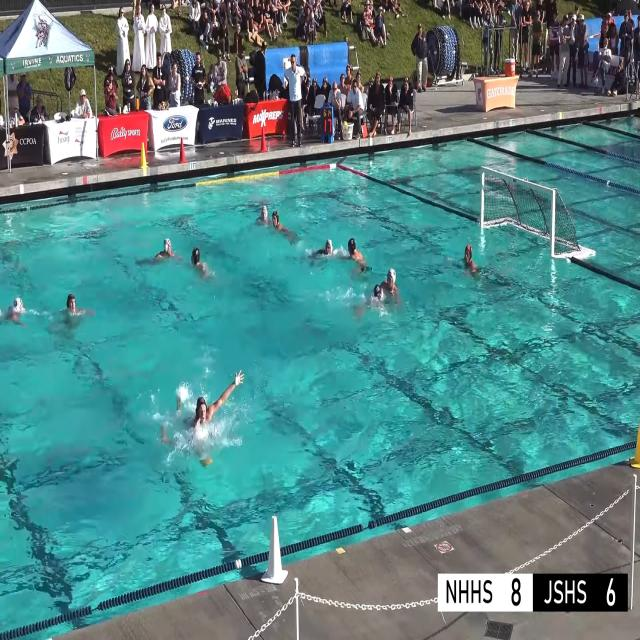ball: (202, 458, 213, 464), (343, 121, 348, 125)
